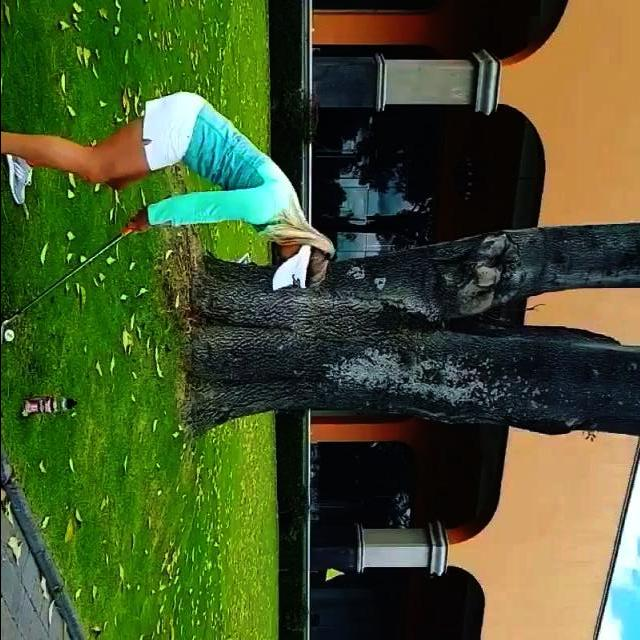golf ball: (3, 330, 13, 342)
golf club-handle: (0, 226, 130, 345)
golf club-head: (0, 319, 7, 345)
